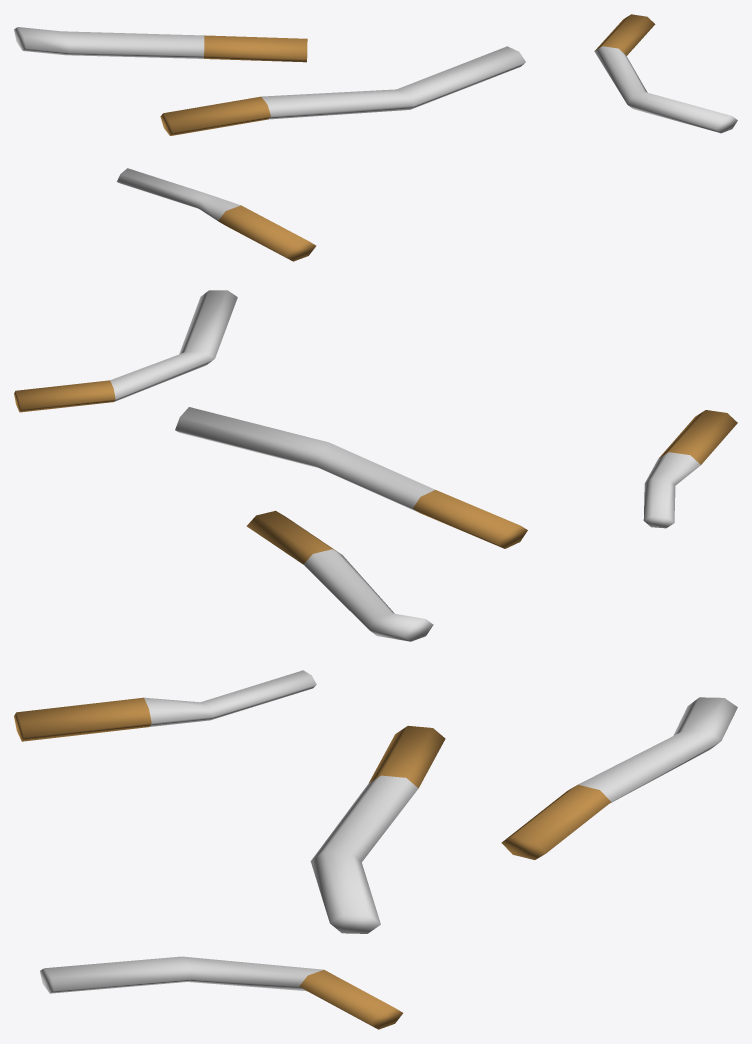
The model's file is TrashPileCigarettes.fbx.
3 renders of one model, top to bottom at view 1: azimuth 30°, elevation 25°; view 2: azimuth 150°, elevation 25°; view 3: azimuth 270°, elevation 25°, orthographic. The views are drawn at different scales.
Visible parts, largest first — view 1: TrashPileCigarettes; view 2: TrashPileCigarettes; view 3: TrashPileCigarettes.
Boxes of the visible parts, <box> form: TrashPileCigarettes: <box>14,14,737,261</box>; TrashPileCigarettes: <box>14,290,737,641</box>; TrashPileCigarettes: <box>14,670,737,1029</box>.
Bounding box in the file's own units: 21.4 × 1.03 × 18.75.
